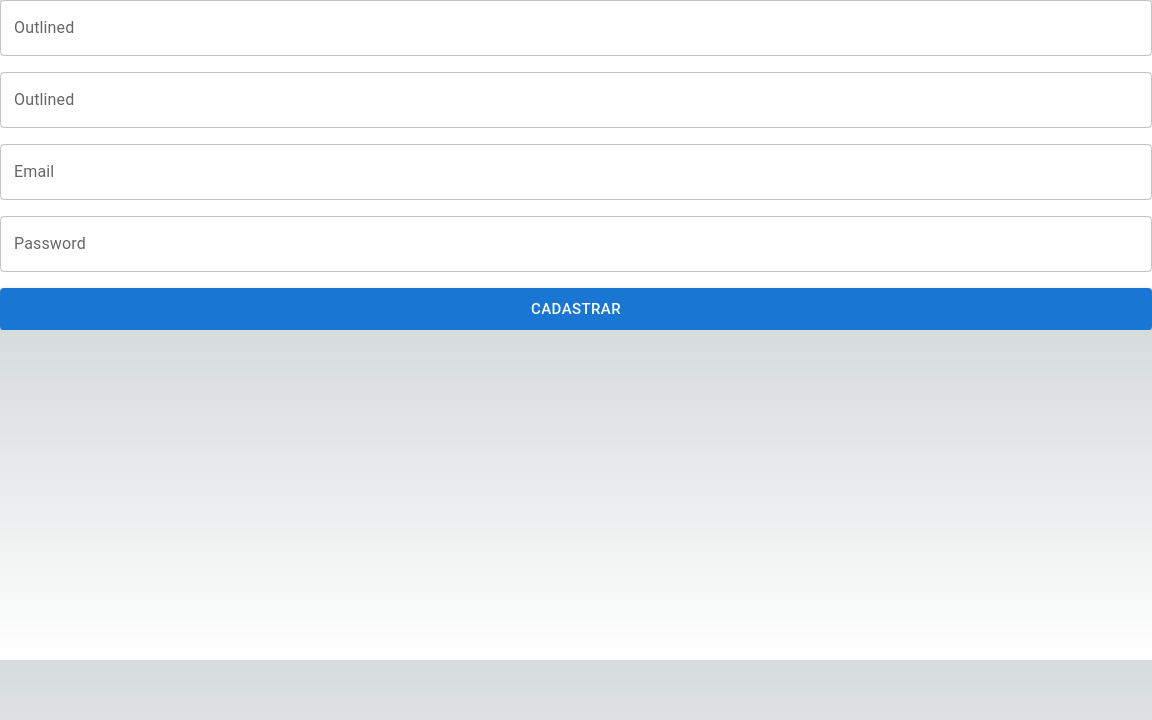
<FormComponent /> › checks if email field renders the error message
Click the button: (576, 309) [0,288,1151,330]
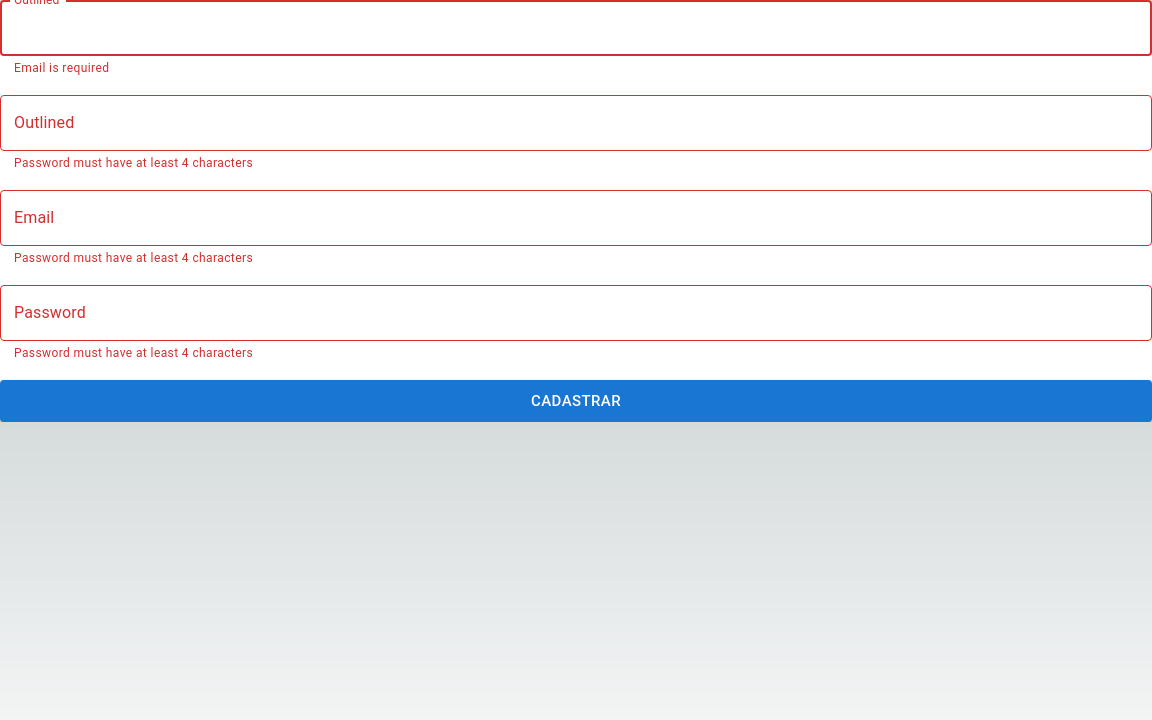
Now the text "Email is required" is shown, box [14,61,109,75]
